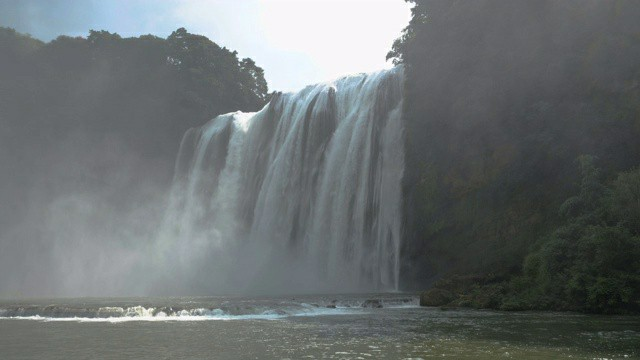Huangguoshu: (156, 67, 405, 294)
